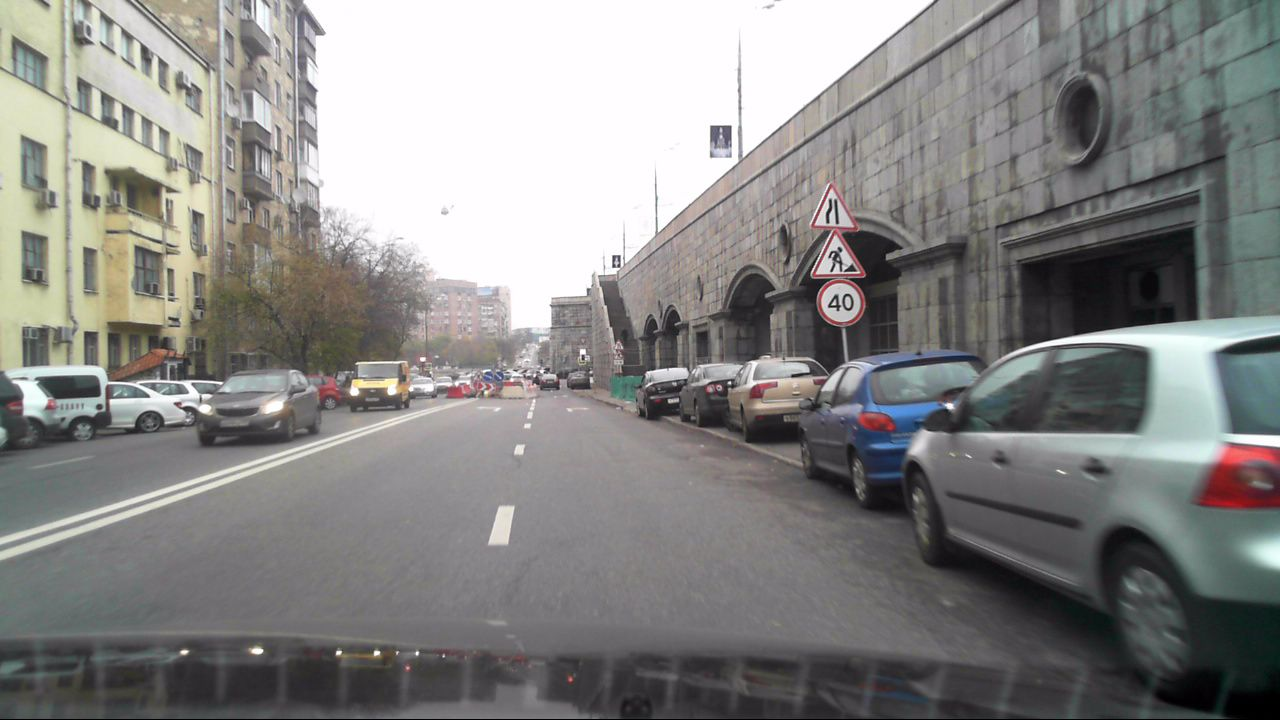speed_warning_40: (816, 276, 864, 328)
